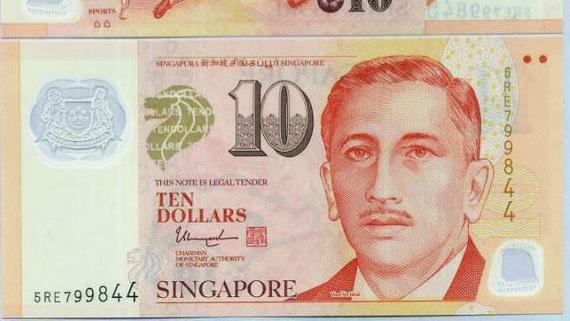10SingaporeDollar: (0, 41, 562, 313)
